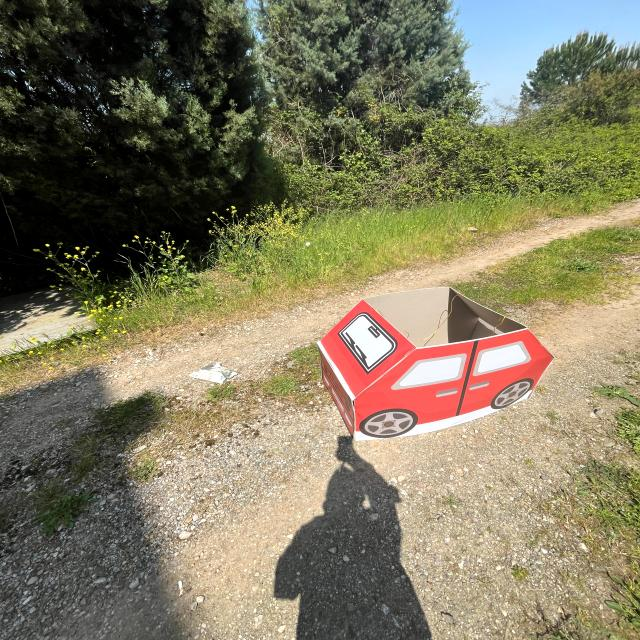red_car: (293, 275, 567, 460)
